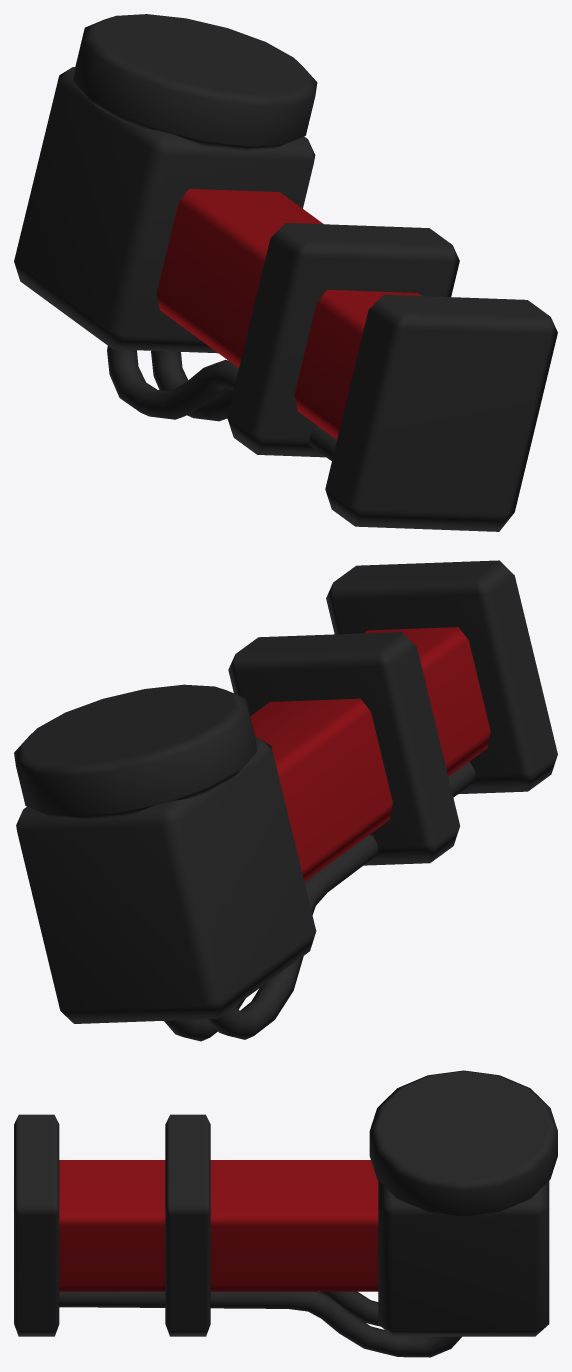
Rendered from Ship_enemy_06_Weapon_L.fbx.
3 views of the same model, one above another, from view 1: azimuth 30°, elevation 25°; view 2: azimuth 150°, elevation 25°; view 3: azimuth 270°, elevation 25° (orthographic). The views are drawn at different scales.
Parts seen in each view (by area): view 1: Ship_enemy_06_Weapon_L; view 2: Ship_enemy_06_Weapon_L; view 3: Ship_enemy_06_Weapon_L.
Part boxes in pixels (x1=…): Ship_enemy_06_Weapon_L: x1=14, y1=14, x2=557, y2=531; Ship_enemy_06_Weapon_L: x1=14, y1=560, x2=557, y2=1041; Ship_enemy_06_Weapon_L: x1=14, y1=1070, x2=557, y2=1357.
Size of the model in its own units: 80.65 by 110 by 203.
